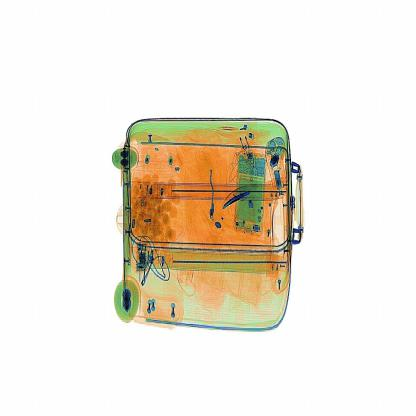pliers: (218, 182, 260, 210)
